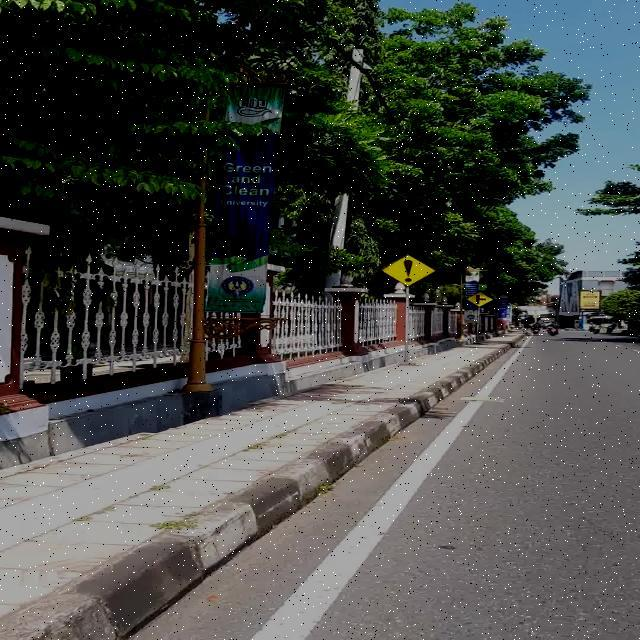Hati-Hati: (381, 254, 436, 287)
